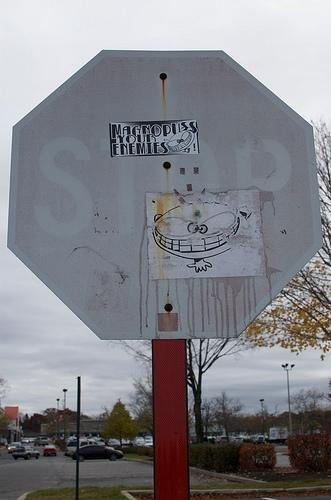car: (70, 445, 124, 462), (65, 438, 101, 456), (12, 446, 40, 460), (42, 444, 58, 457), (34, 436, 50, 446), (8, 441, 22, 452), (135, 440, 153, 448), (252, 436, 266, 444), (107, 438, 120, 446), (230, 436, 244, 442), (216, 436, 226, 442)
